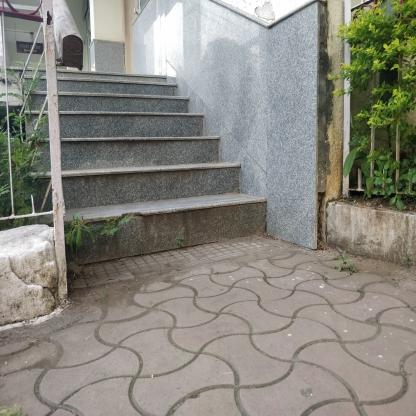stairs: (95, 87, 225, 271)
